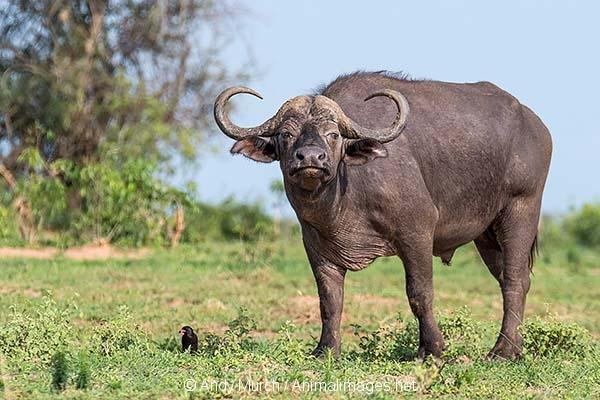Buffalo: (227, 54, 600, 364)
